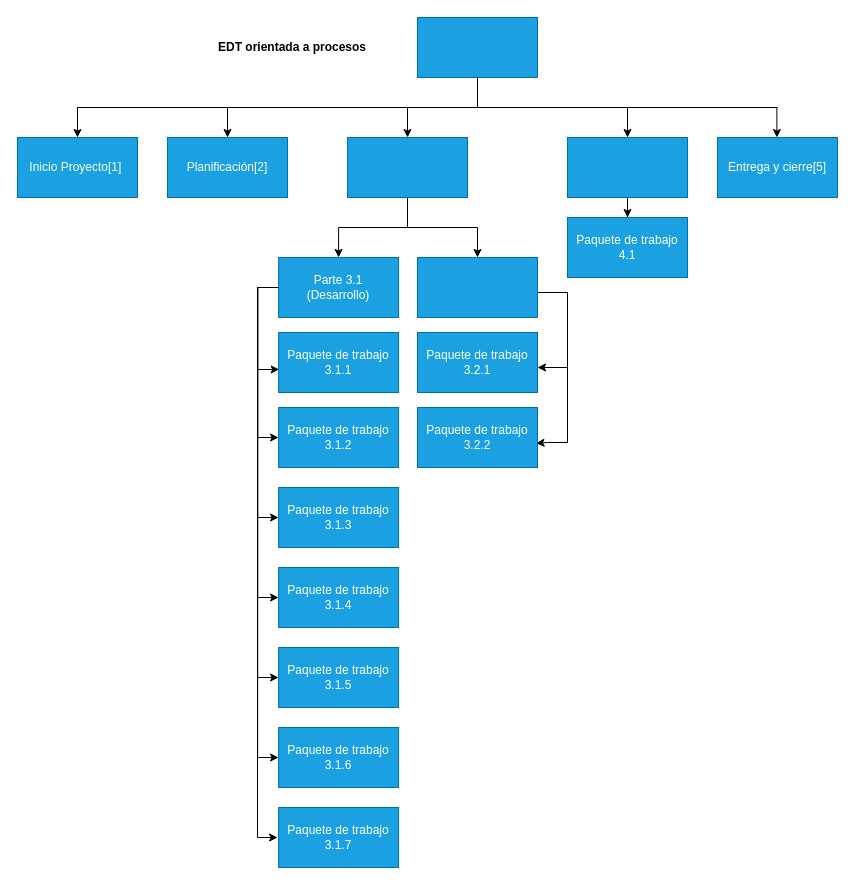
Some shapes in this 855 by 885 pixel diagram are drawn without their labels. The shapes that lost their labels are listed below. From the top down, each one's box as (x1, y1, x2, y2) in pixels, then its label:
(416, 16, 538, 78): Proyecto
(346, 136, 468, 198): Ejecución[3]
(566, 136, 688, 198): Seguimiento[4]
(416, 256, 538, 318): Parte 3.2 (Pruebas)
